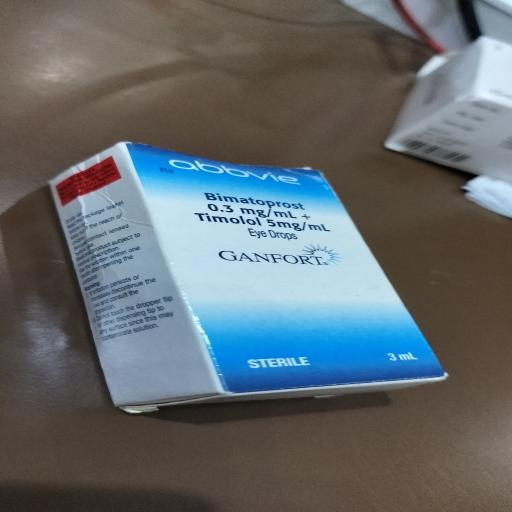eye-drops: (165, 185, 345, 273), (158, 152, 324, 189)
medicine: (45, 143, 452, 400)
